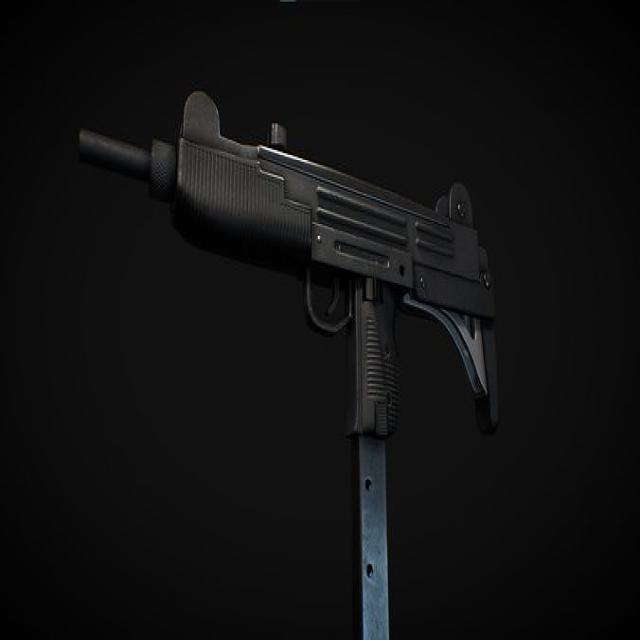SMG: (78, 93, 502, 640)
